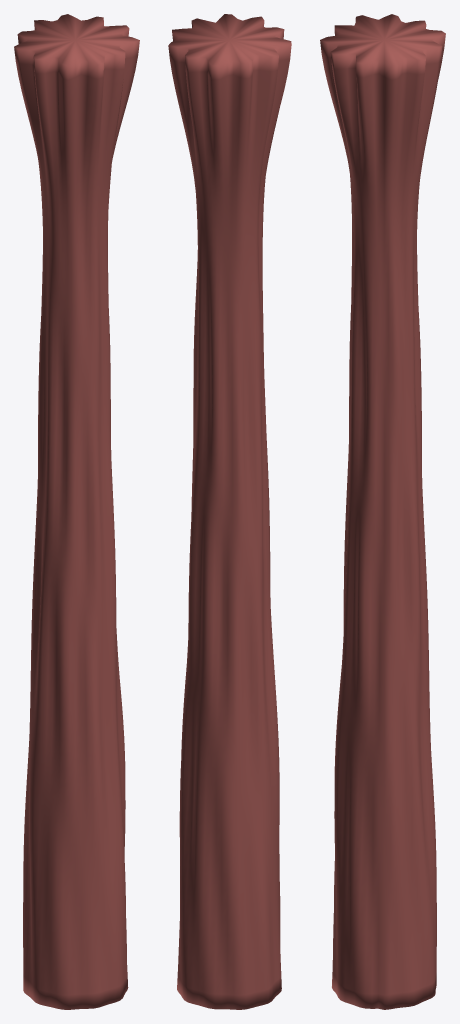
File: sleeve-forearm.glb
3 renders of one model, left to right at view 1: azimuth 90°, elevation 25°; view 2: azimuth 150°, elevation 25°; view 3: azimuth 270°, elevation 25°, orthographic.
Parts seen in each view (by area): view 1: Fitted sleeve; view 2: Fitted sleeve; view 3: Fitted sleeve.
Part boxes in pixels (box(x1,y1,x2,y2)): Fitted sleeve: box(14, 14, 139, 1009); Fitted sleeve: box(168, 14, 291, 1009); Fitted sleeve: box(320, 14, 445, 1009).
Size of the model in its own units: 0.1181 by 1 by 0.1205.
